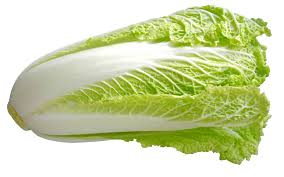cabbage: (8, 5, 284, 159)
